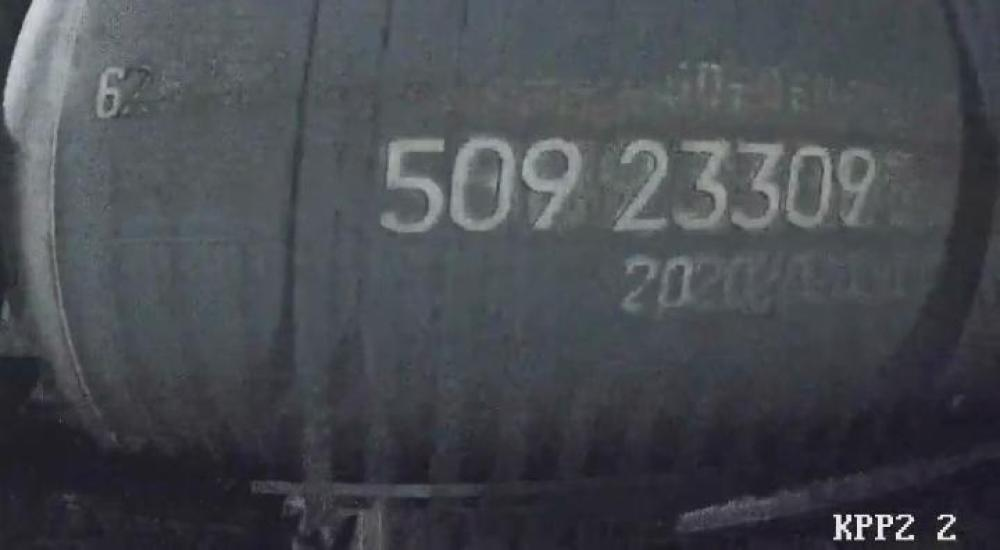Wagon-number: (372, 128, 884, 240)
